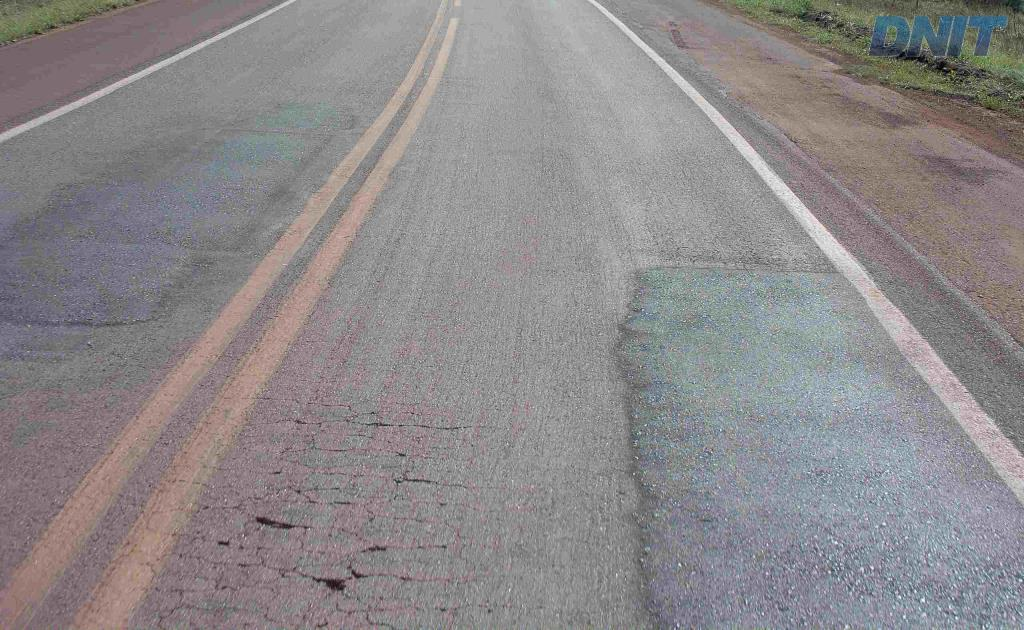crack: (237, 479, 314, 543), (278, 552, 373, 593), (213, 543, 272, 593), (182, 528, 208, 573)
